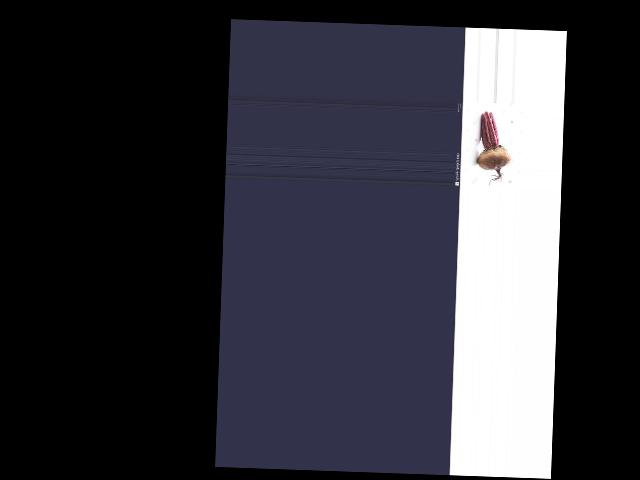beet: (476, 111, 512, 185)
